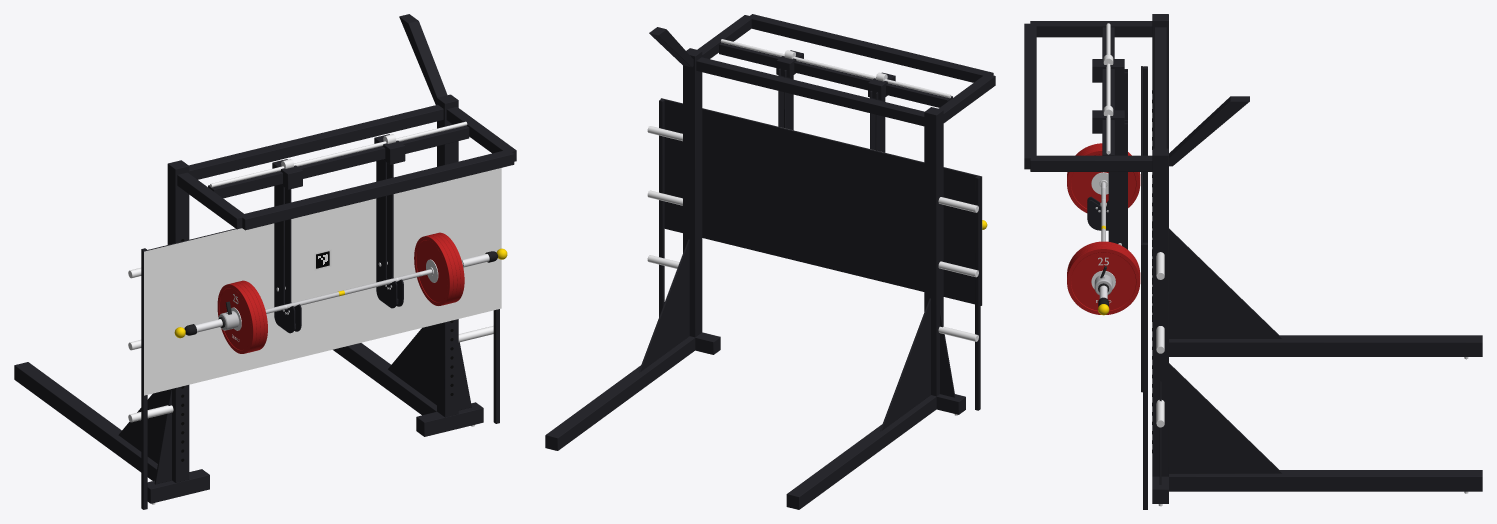
The model's file is monolift.glb.
3 views of the same model, side by side, from view 1: azimuth 30°, elevation 25°; view 2: azimuth 150°, elevation 25°; view 3: azimuth 270°, elevation 25° (orthographic). The views are drawn at different scales.
Visible parts, largest first — view 1: Barbell_225kg_Chrome, Monolift_Millimetre_paper; view 2: Barbell_225kg_Chrome; view 3: Barbell_225kg_Chrome.
Boxes of the visible parts, x1=… form: Barbell_225kg_Chrome: x1=14, y1=14, x2=516, y2=509; Monolift_Millimetre_paper: x1=144, y1=168, x2=501, y2=395; Barbell_225kg_Chrome: x1=545, y1=14, x2=995, y2=509; Barbell_225kg_Chrome: x1=1024, y1=14, x2=1482, y2=509.
Bounding box in the file's own units: 2.66 × 2.67 × 2.82.
Materials: 4 (2 with a texture image).
